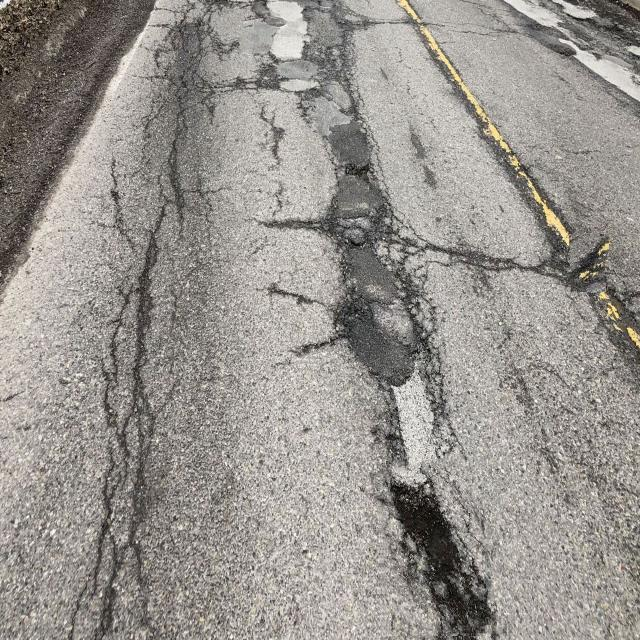Pothole: (378, 457, 491, 636), (568, 233, 608, 293), (339, 150, 369, 208)
